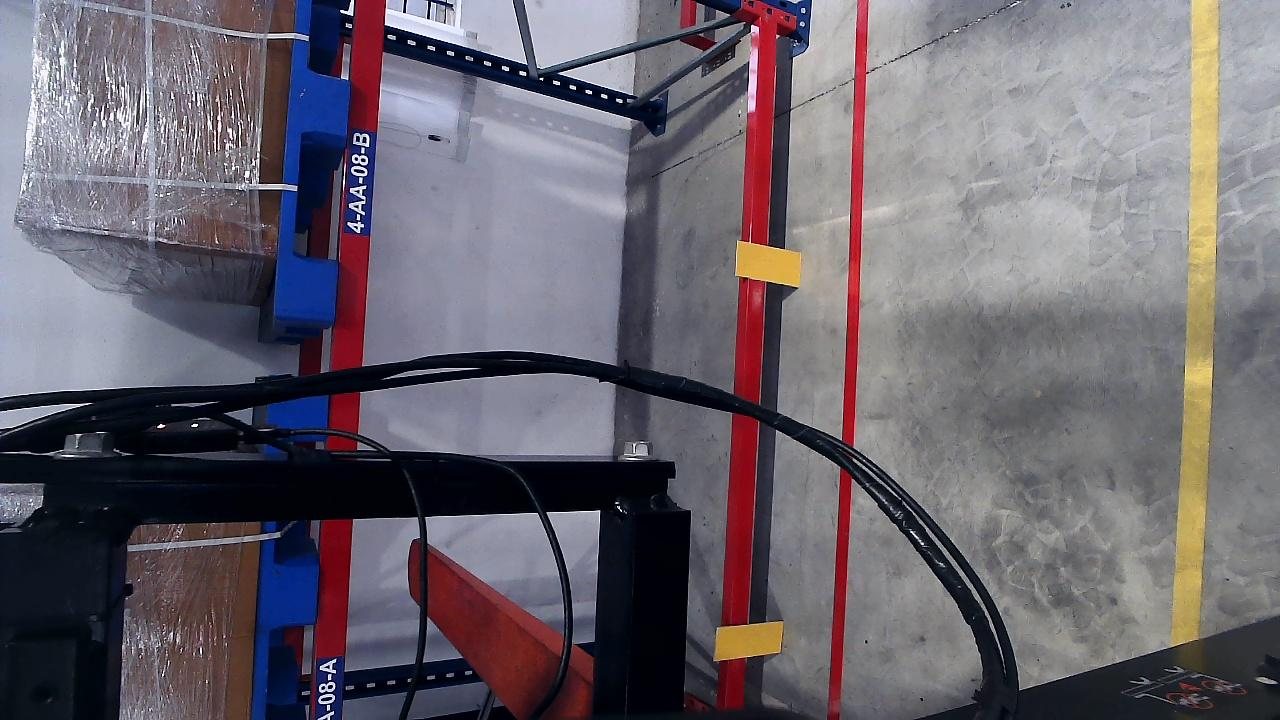h_rack: (311, 0, 390, 716), (717, 25, 776, 709)
orange_strip: (735, 241, 801, 287), (715, 621, 783, 661)
red_line: (829, 0, 873, 720)
small_pallet: (267, 1, 362, 318), (251, 380, 329, 720)
yellow_line: (1179, 5, 1221, 655)
